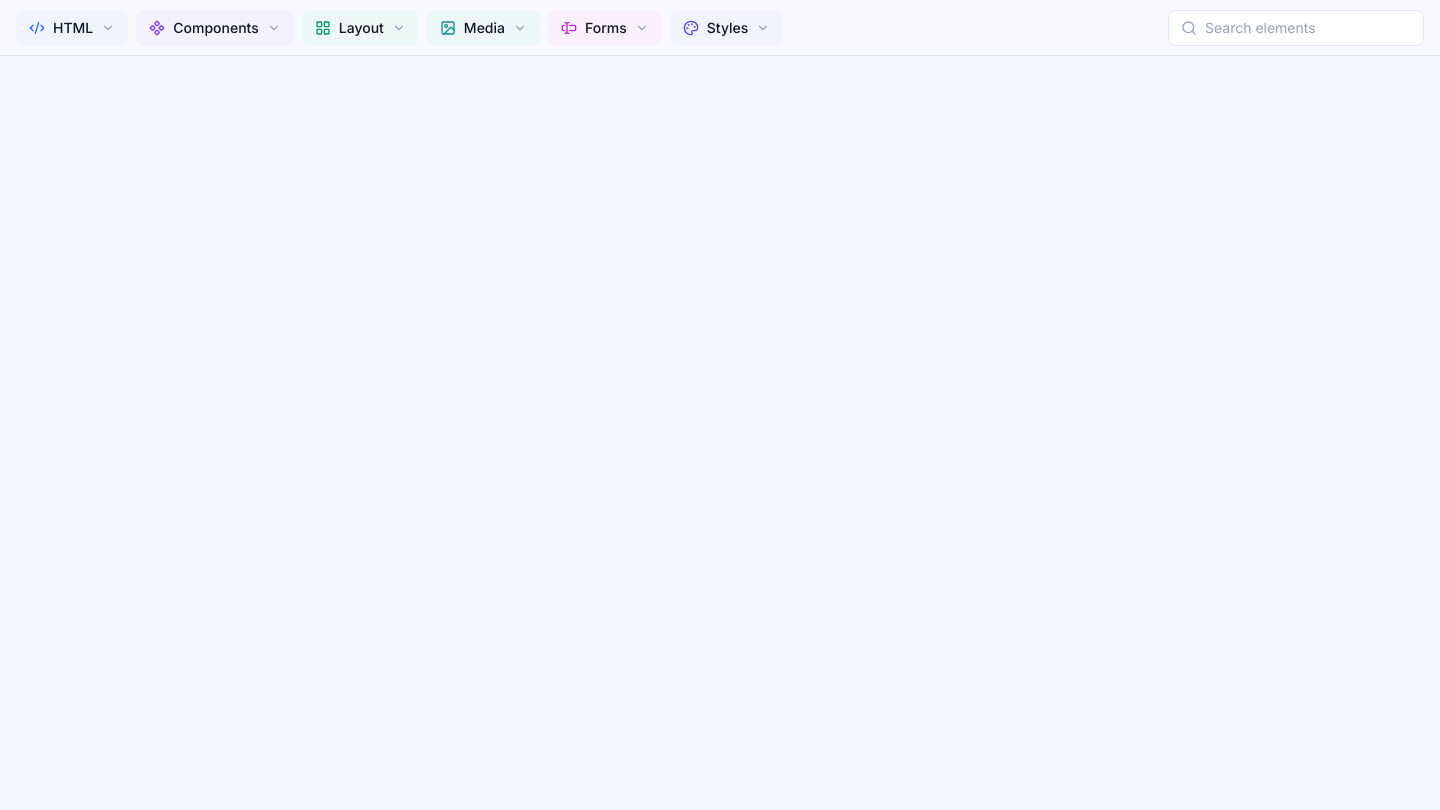
Scenario: CreationToolbar › opens a category dropdown on click and closes it when clicked again
The width and height of the screenshot is (1440, 810).
Click the button "HTML" at {"x": 72, "y": 28}, box [16,10,128,46]
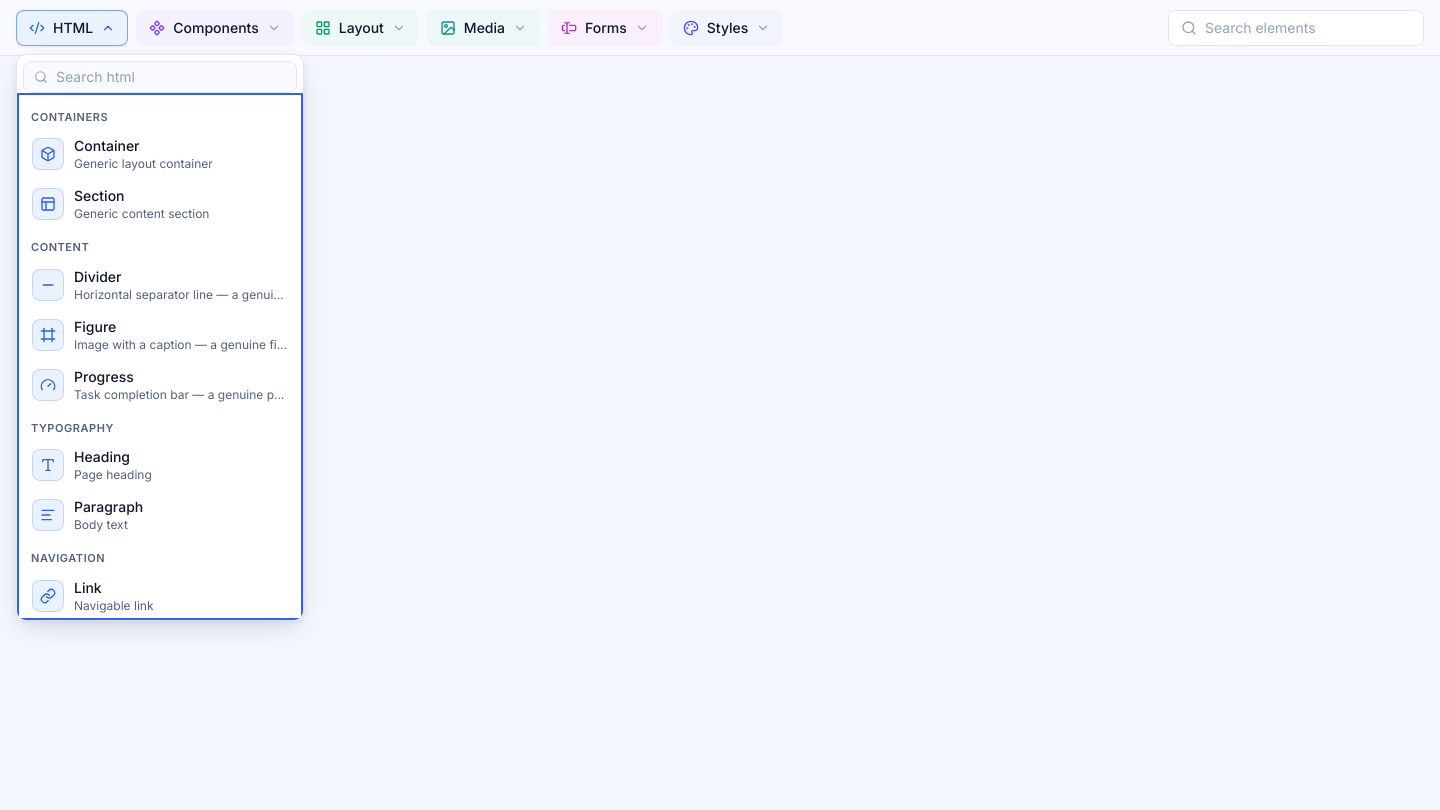
Expected: the menu named "HTML elements" is shown, [17,92,303,620]
Expected: the button "HTML" is expanded
Click the button "HTML" at {"x": 72, "y": 28}, box [16,10,128,46]
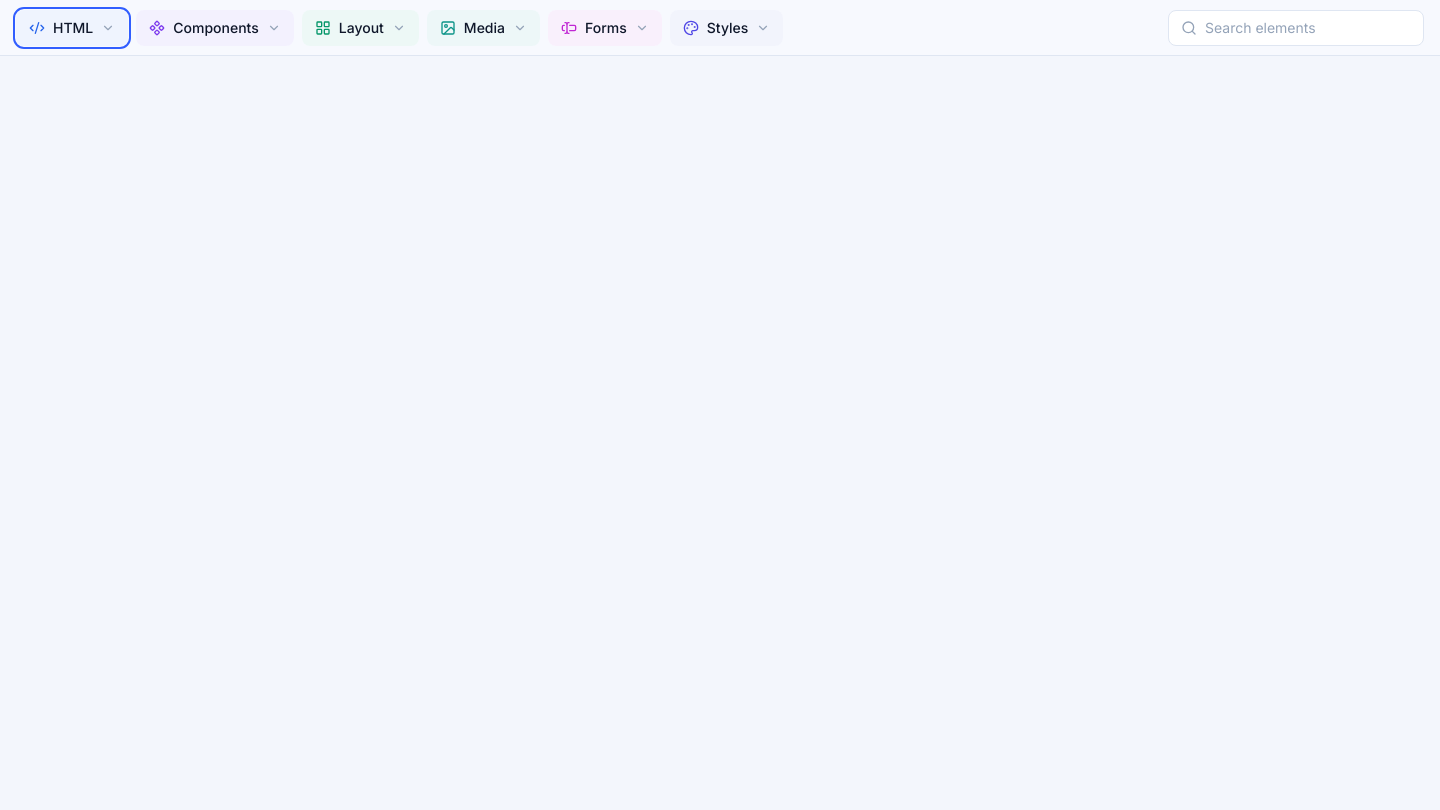
Expected: the button "HTML" is collapsed, [16,10,128,46]
